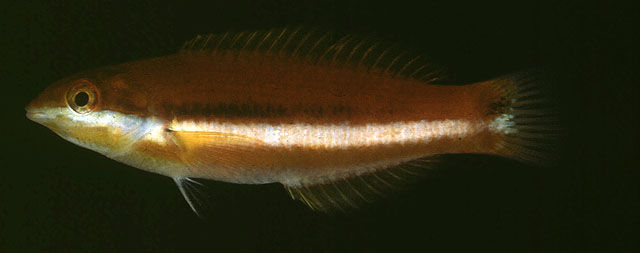fish: (26, 28, 549, 215)
